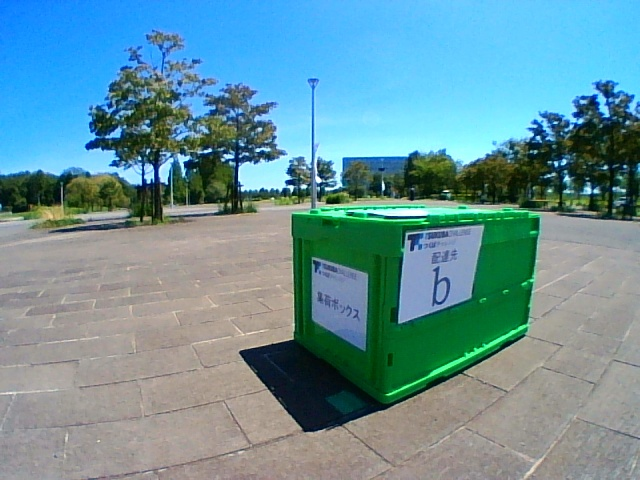green_box: (294, 206, 534, 341)
tag_b: (417, 232, 454, 309)
